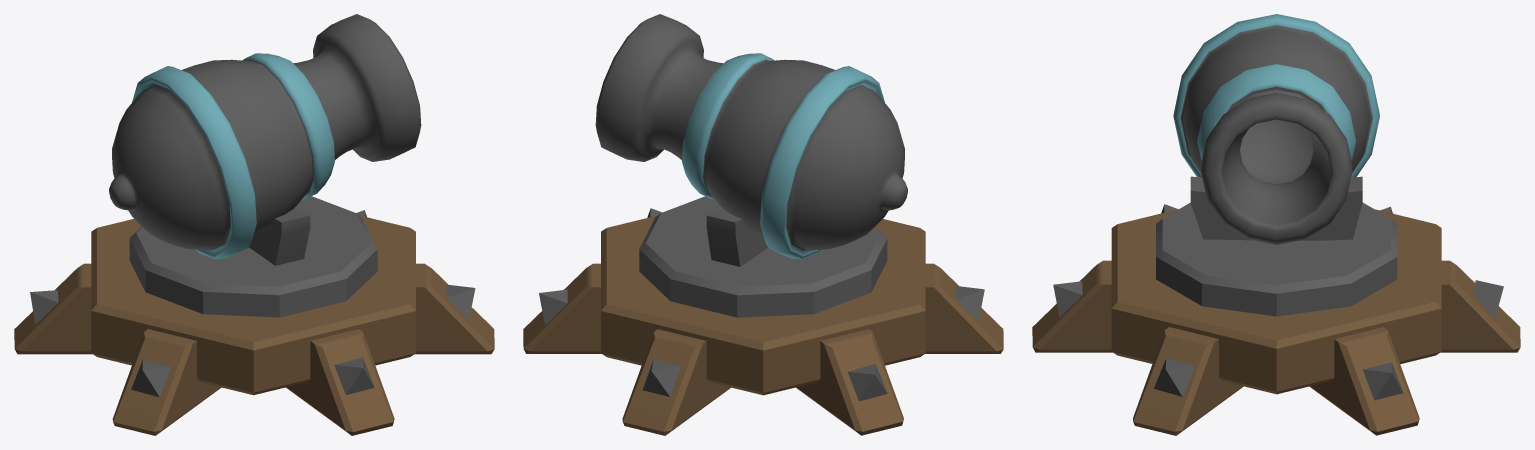
Rendered from cannon_Gemilerdeki_Savas_Topu.fbx.
3 renders of one model, left to right at view 1: azimuth 30°, elevation 25°; view 2: azimuth 150°, elevation 25°; view 3: azimuth 270°, elevation 25°, orthographic.
Parts seen in each view (by area): view 1: pCube13; view 2: pCube13; view 3: pCube13.
Boxes of the visible parts, x1,y1,x2,y2 form: pCube13: (14, 14, 494, 435); pCube13: (523, 14, 1003, 435); pCube13: (1032, 14, 1520, 435).
Size of the model in its own units: 1320 by 981 by 1441.
